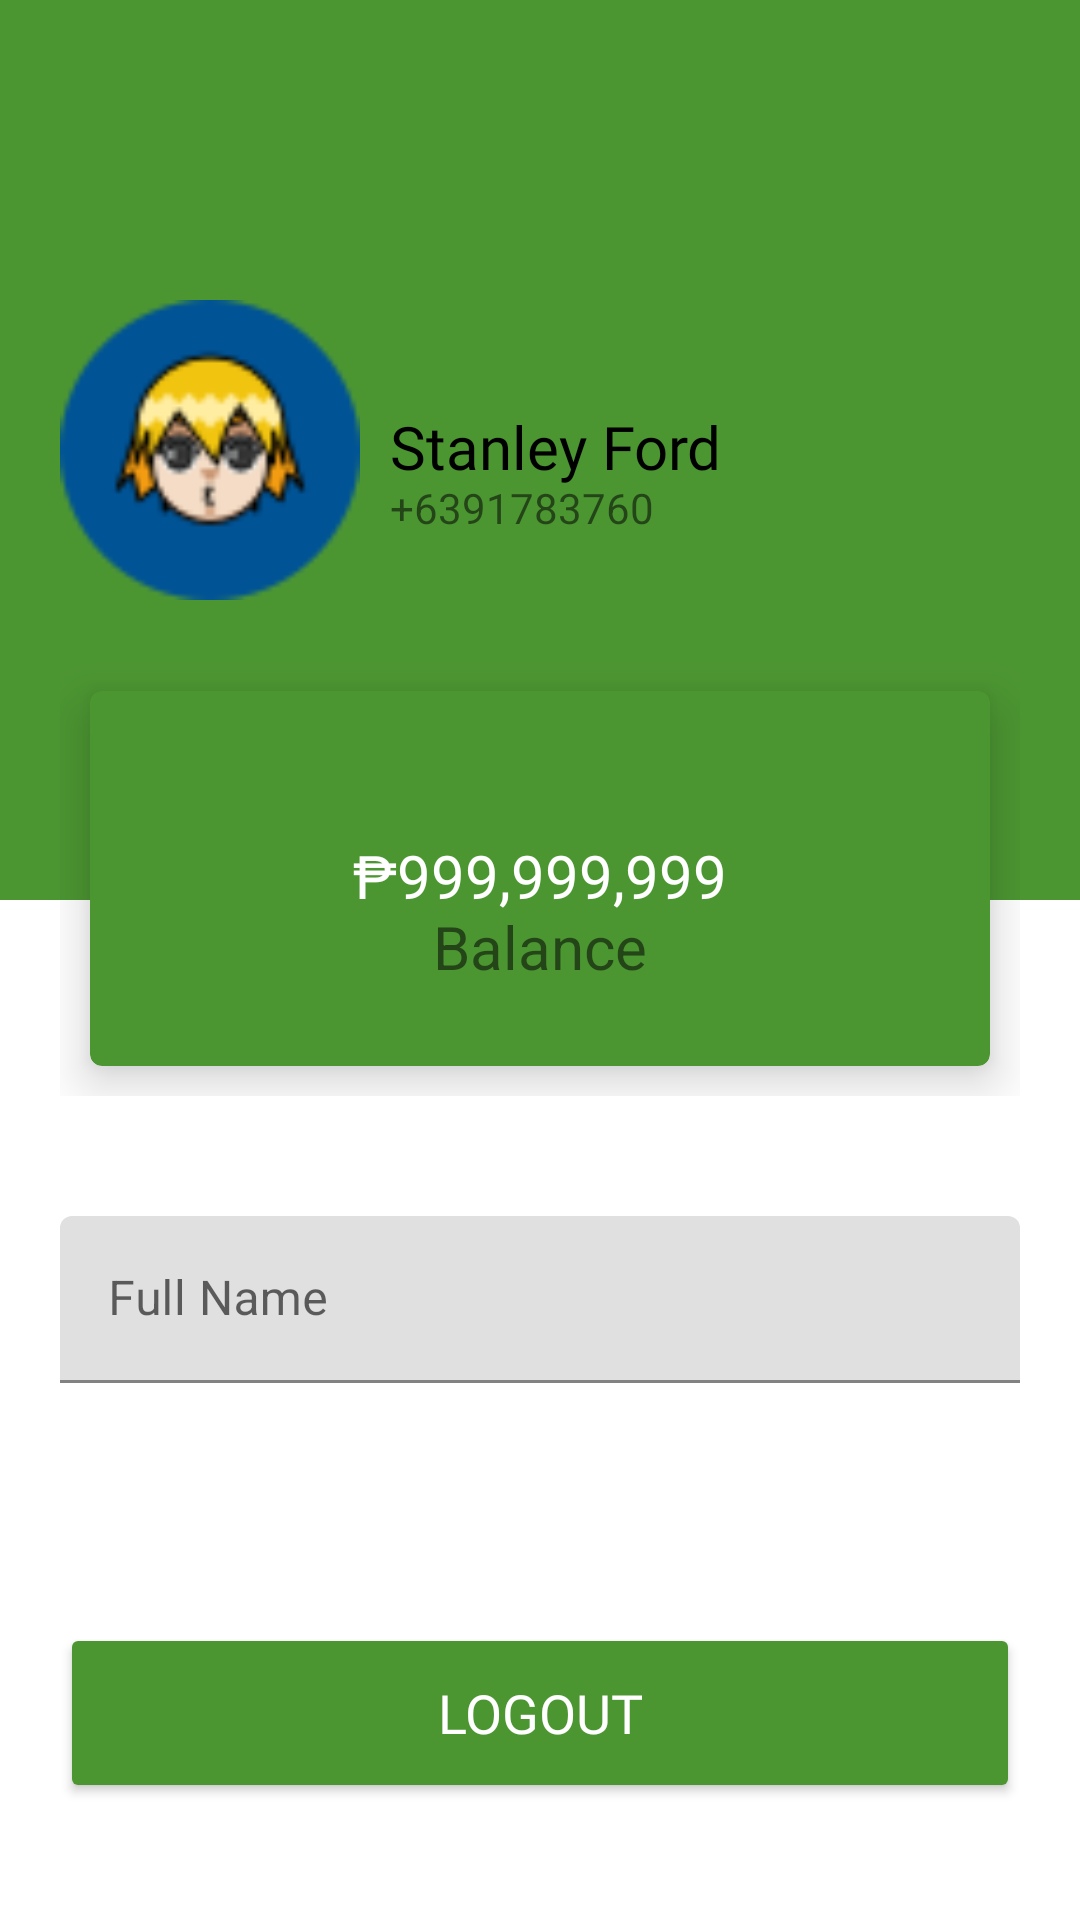

Locate icon controls on the screen. Image size 1080w x 1920h, boxes as (x1, y1, x2, y2).
profile: (60, 300, 360, 600)
